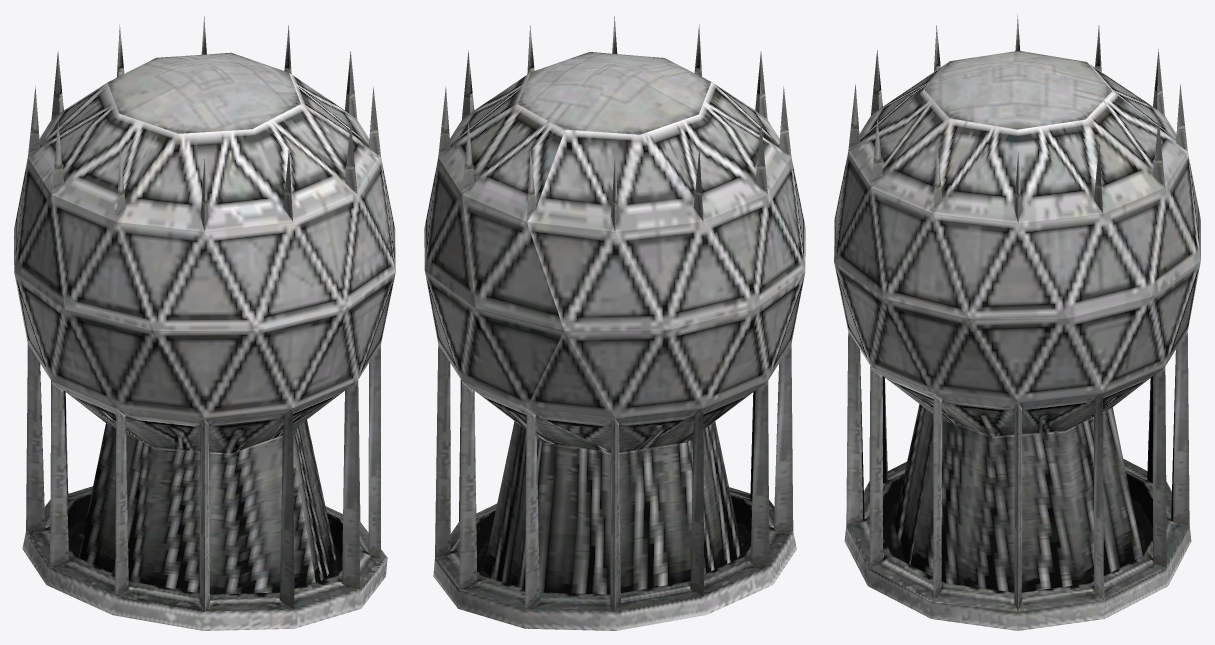
File: star_destroyer_shieldtower_2_l2.fbx
3 views of the same model, side by side, from view 1: azimuth 30°, elevation 25°; view 2: azimuth 150°, elevation 25°; view 3: azimuth 270°, elevation 25° (orthographic). The views are drawn at different scales.
Visible parts, largest first — view 1: mesh_node; view 2: mesh_node; view 3: mesh_node.
Boxes of the visible parts, x1,y1,x2,y2 form: mesh_node: (14, 16, 395, 630); mesh_node: (424, 16, 805, 630); mesh_node: (834, 14, 1200, 630).
Size of the model in its own units: 68.03 by 100 by 68.01.
Materials: 1 (1 with a texture image).
